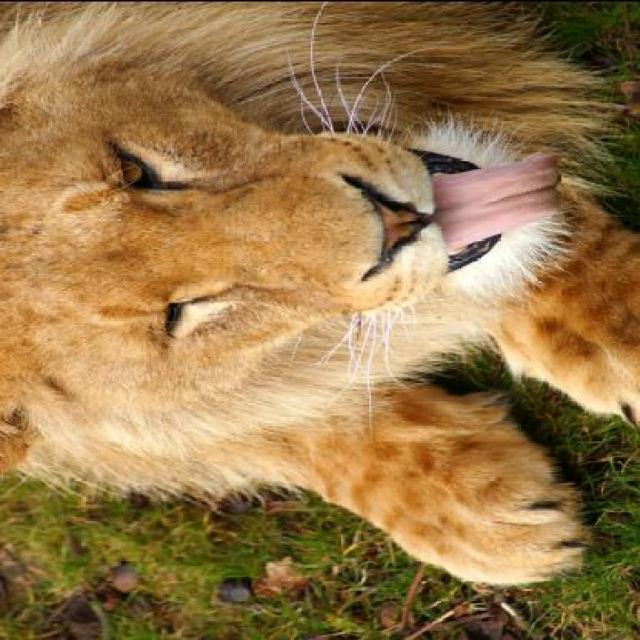Lion: (4, 17, 638, 626)
